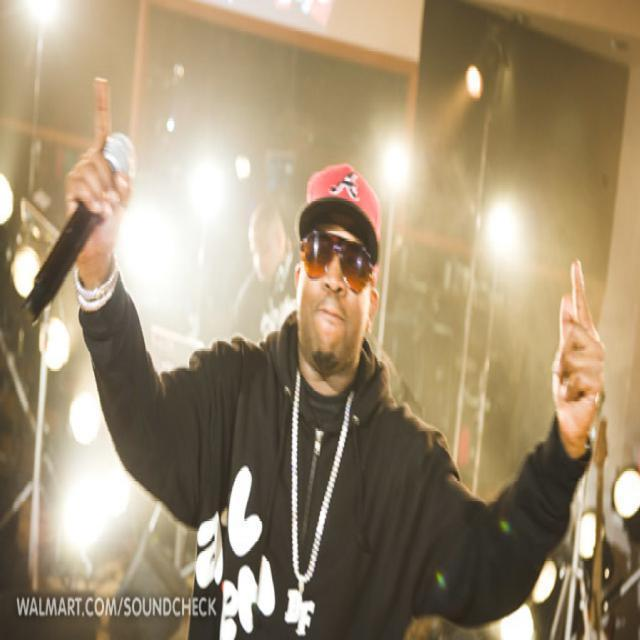closed-mouth: (314, 294, 348, 326)
